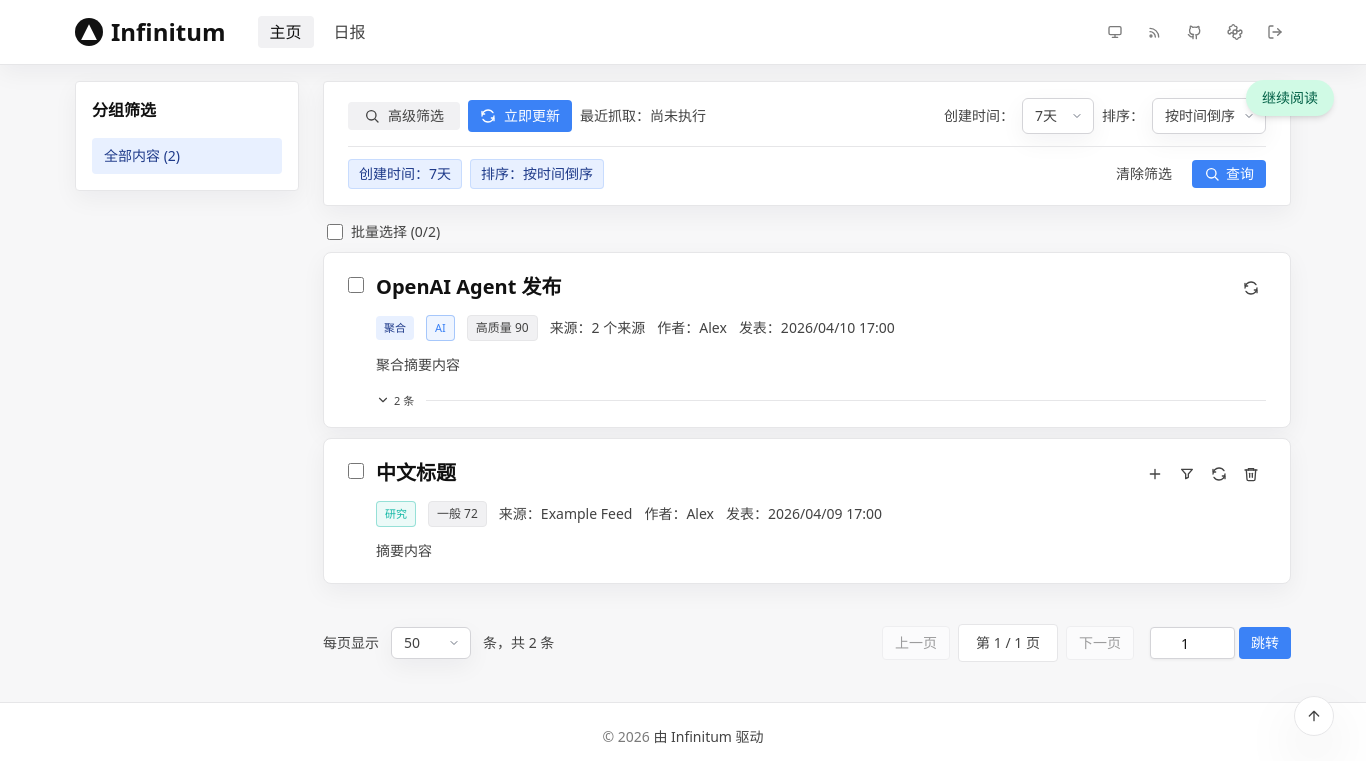
FeedPanel › omits aggregation parent metadata from feed cards
The image size is (1366, 761).
(page scrolled)
Click the button named "展开相关内容". click: (395, 400)
box: [376, 393, 414, 407]
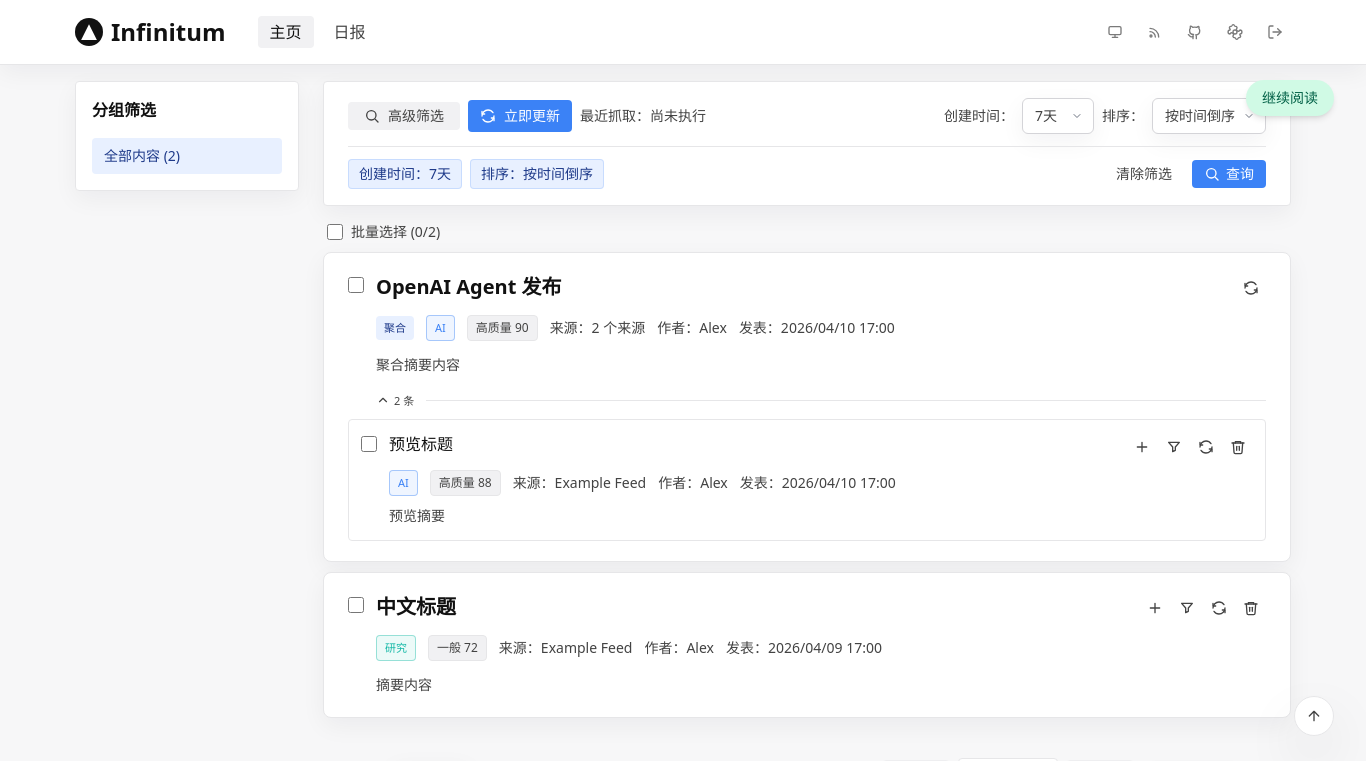
Check: the link "预览标题" is shown, box [389, 433, 453, 455]
